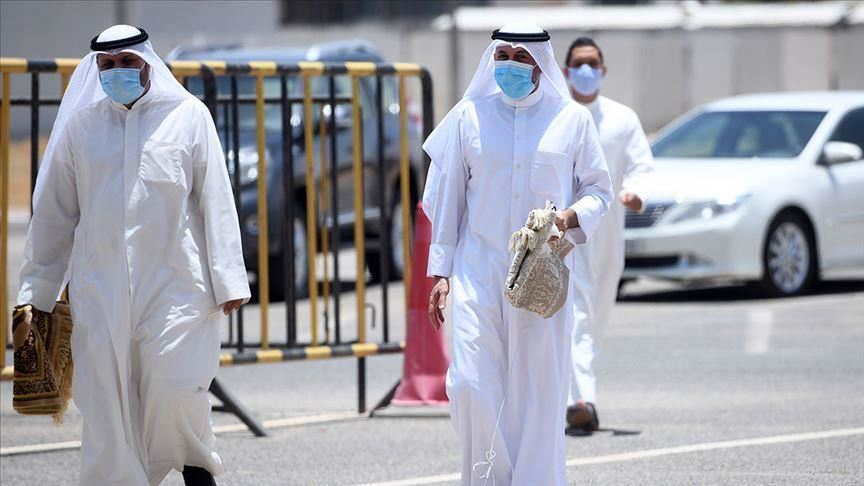Person: (28, 19, 232, 486), (435, 12, 588, 456)
